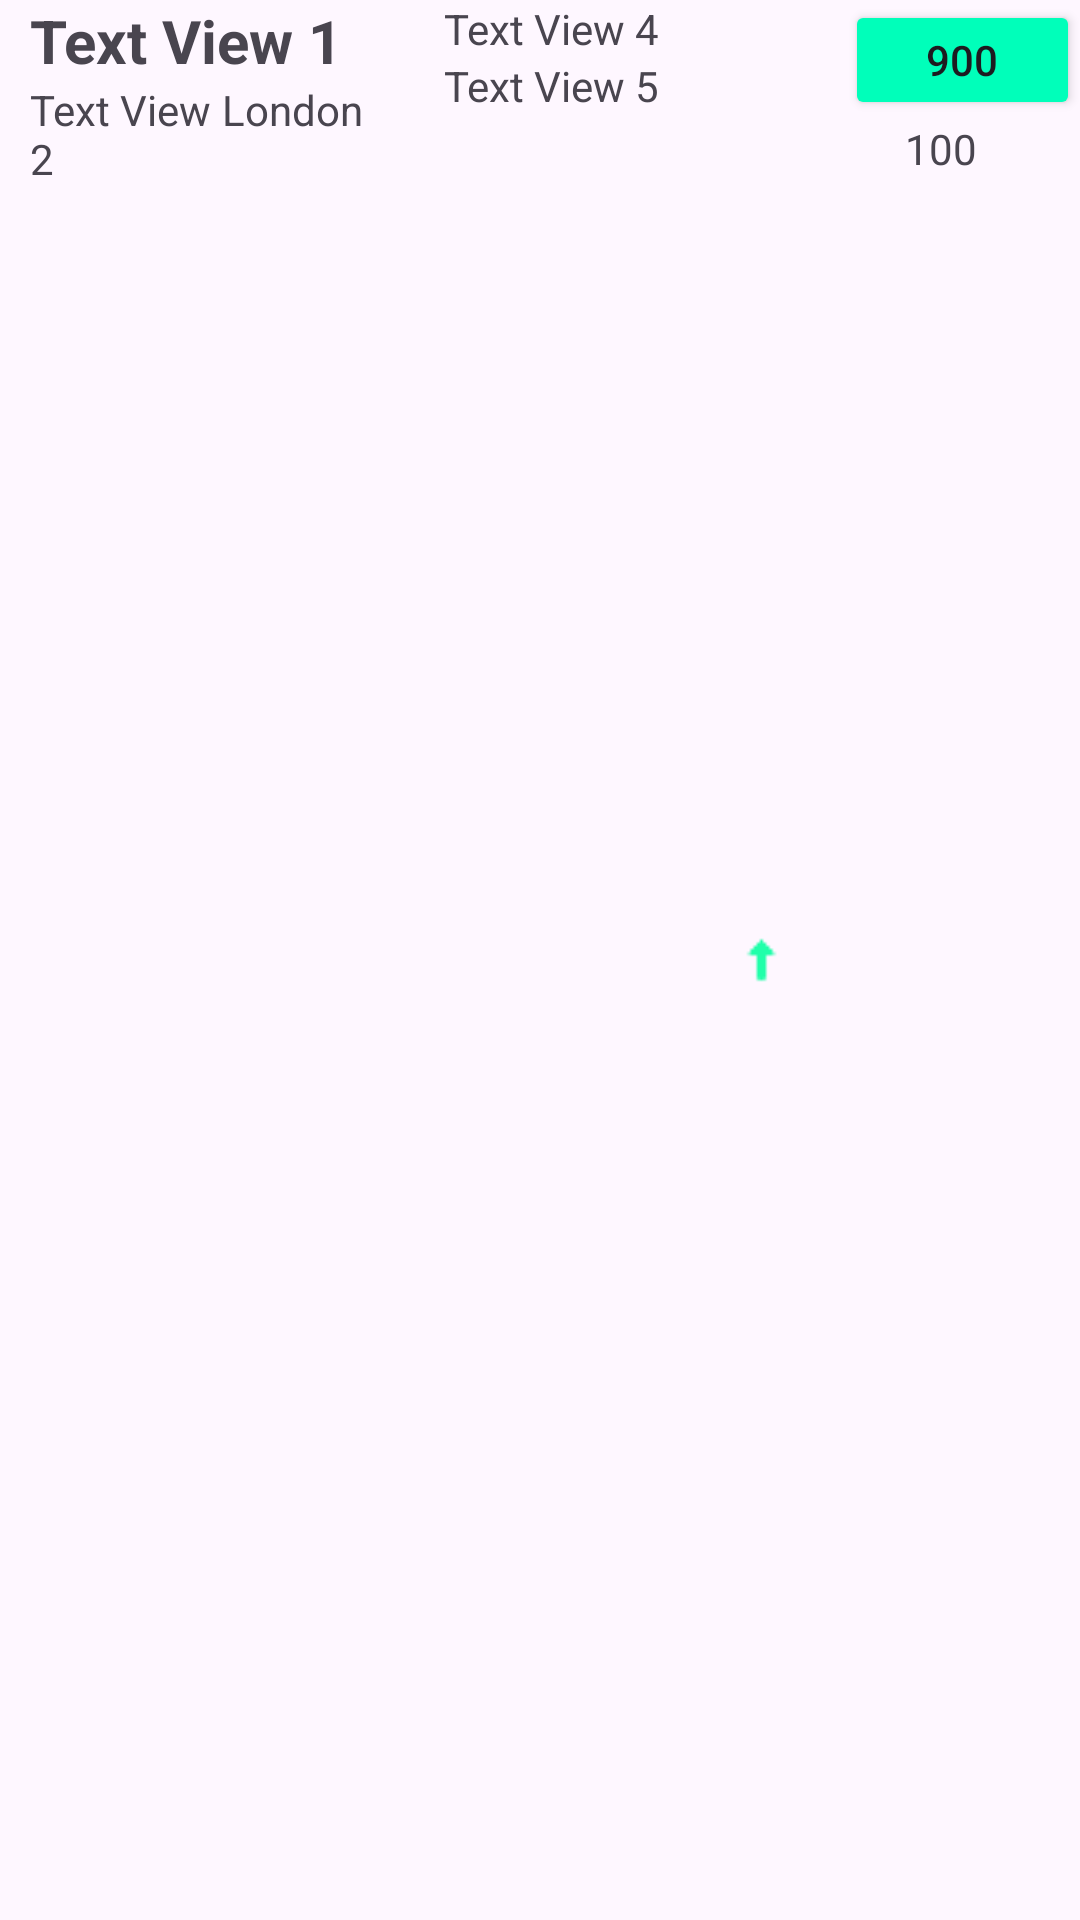

Icon click points for this 1080px×1920px phone screenshot, format [x,y]:
uparrow: [761,960]
